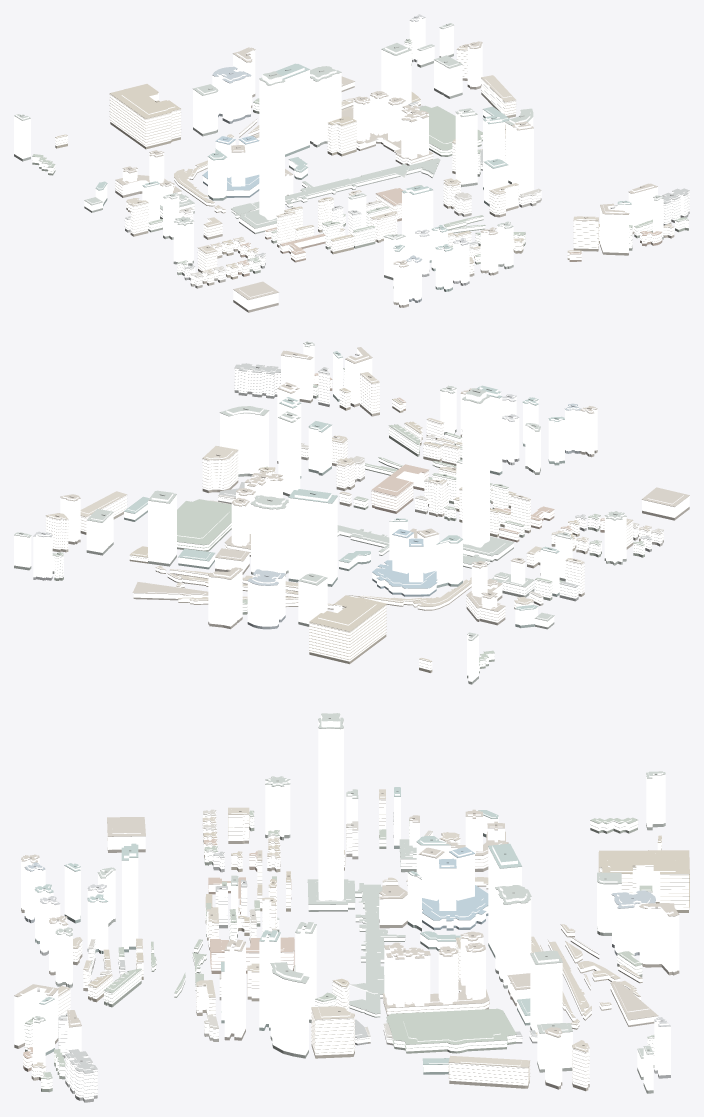
Rendered from buildings-7_0-fine.glb.
The picture shows the model from 3 angles, top to bottom: view 1: azimuth 30°, elevation 25°; view 2: azimuth 150°, elevation 25°; view 3: azimuth 270°, elevation 25°; orthographic projection. The views are drawn at different scales.
Parts seen in each view (by area): view 1: block_7_0_office, block_7_0_residential, block_7_0_roof, block_7_0_darkglass, block_7_0_concrete, block_7_0_steel; view 2: block_7_0_office, block_7_0_roof, block_7_0_residential, block_7_0_darkglass, block_7_0_concrete, block_7_0_steel; view 3: block_7_0_office, block_7_0_roof, block_7_0_residential, block_7_0_darkglass, block_7_0_concrete, block_7_0_steel.
Part boxes in pixels (bbox=[...]): block_7_0_office: bbox=[14, 15, 663, 310]; block_7_0_residential: bbox=[32, 40, 689, 285]; block_7_0_roof: bbox=[14, 14, 689, 299]; block_7_0_darkglass: bbox=[14, 53, 689, 312]; block_7_0_concrete: bbox=[32, 40, 689, 284]; block_7_0_steel: bbox=[15, 17, 663, 299]; block_7_0_office: bbox=[14, 342, 689, 681]; block_7_0_roof: bbox=[14, 341, 689, 664]; block_7_0_residential: bbox=[46, 366, 663, 671]; block_7_0_darkglass: bbox=[14, 384, 689, 684]; block_7_0_concrete: bbox=[46, 368, 663, 668]; block_7_0_steel: bbox=[14, 343, 689, 640]; block_7_0_office: bbox=[14, 715, 679, 1090]; block_7_0_roof: bbox=[14, 713, 689, 1099]; block_7_0_residential: bbox=[23, 792, 688, 1099]; block_7_0_darkglass: bbox=[14, 823, 688, 1102]; block_7_0_concrete: bbox=[23, 799, 689, 1097]; block_7_0_steel: bbox=[14, 722, 679, 1064].
Size of the model in its own units: 665 by 208 by 681.
